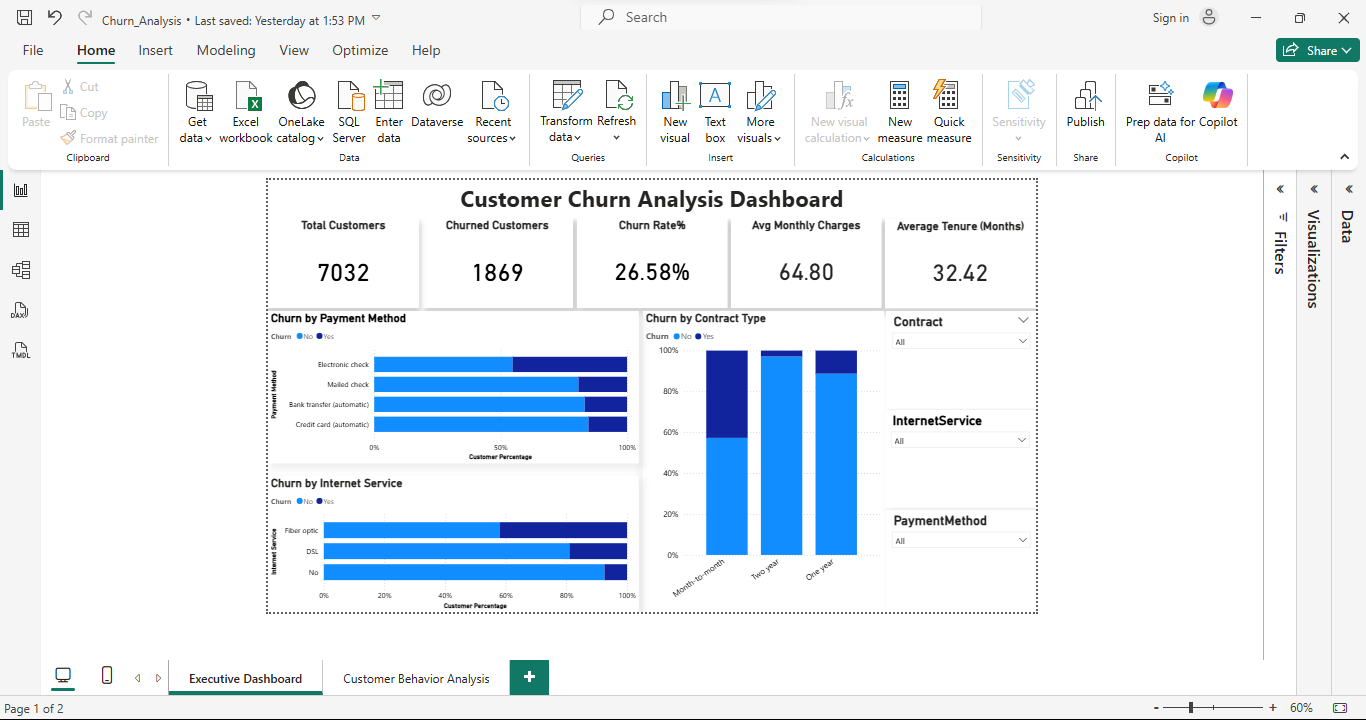

Layout of this report page (visuals, bound fields, positions):
{"tool":"powerbi","page":{"name":"Executive Dashboard","canvas":[1280,720],"ordinal":0},"visuals":[{"type":"card","title":"Total Customers","fields":{"Values":["Count(cleaned_telco_churn.customerID)"]},"box":[0,63.8,251,149.5],"z":0},{"type":"card","title":"Churned Customers","fields":{"Values":["Count(cleaned_telco_churn.customerID)"]},"box":[257.1,63.8,251,149.5],"z":1000},{"type":"card","title":"Churn Rate%","fields":{"Values":["cleaned_telco_churn.Churn Rate"]},"box":[514.3,63.8,251,149.5],"z":2000},{"type":"card","title":"Avg Monthly Charges","fields":{"Values":["Avg(cleaned_telco_churn.MonthlyCharges)"]},"box":[771.4,63.8,251,149.5],"z":3000},{"type":"card","title":"Average Tenure (Months)","fields":{"Values":["Avg(cleaned_telco_churn.tenure)"]},"box":[1027.7,64.2,251,149.4],"z":4000},{"type":"hundredPercentStackedColumnChart","title":"Churn by Contract Type","fields":{"Category":["cleaned_telco_churn.Contract"],"Series":["cleaned_telco_churn.Churn"],"Y":["CountNonNull(cleaned_telco_churn.customerID)"]},"box":[624.4,218.1,401.8,501.9],"z":5000},{"type":"hundredPercentStackedBarChart","title":"Churn by Internet Service","fields":{"Category":["cleaned_telco_churn.InternetService"],"Series":["cleaned_telco_churn.Churn"],"Y":["CountNonNull(cleaned_telco_churn.customerID)"]},"box":[0,492.9,618.4,227.1],"z":6000},{"type":"hundredPercentStackedBarChart","title":"Churn by Payment Method","fields":{"Y":["CountNonNull(cleaned_telco_churn.customerID)"],"Category":["cleaned_telco_churn.PaymentMethod"],"Series":["cleaned_telco_churn.Churn"]},"box":[0,218.1,618.4,253.9],"z":7000},{"type":"slicer","fields":{"Values":["cleaned_telco_churn.Contract"]},"box":[1029.2,218.1,251,163],"z":8000},{"type":"slicer","fields":{"Values":["cleaned_telco_churn.InternetService"]},"box":[1029,383.9,251,162.8],"z":9000},{"type":"slicer","fields":{"Values":["cleaned_telco_churn.PaymentMethod"]},"box":[1029.2,549.7,251,170.3],"z":10000},{"type":"textbox","box":[0,0,1280,63.8],"z":12000}]}

Visuals, with their boxes on the page's 1280x720 design canvas (x1, y1, x2, y2). These are canvas units, not pixel positions in the 1366x720 screenshot, which may show the page scaled, cropped or inside an application window:
"Total Customers" card: <bbox>0, 64, 251, 213</bbox>
"Churned Customers" card: <bbox>257, 64, 508, 213</bbox>
"Churn Rate%" card: <bbox>514, 64, 765, 213</bbox>
"Avg Monthly Charges" card: <bbox>771, 64, 1022, 213</bbox>
"Average Tenure (Months)" card: <bbox>1028, 64, 1279, 214</bbox>
"Churn by Contract Type" hundredPercentStackedColumnChart: <bbox>624, 218, 1026, 720</bbox>
"Churn by Internet Service" hundredPercentStackedBarChart: <bbox>0, 493, 618, 720</bbox>
"Churn by Payment Method" hundredPercentStackedBarChart: <bbox>0, 218, 618, 472</bbox>
slicer - cleaned_telco_churn.Contract: <bbox>1029, 218, 1280, 381</bbox>
slicer - cleaned_telco_churn.InternetService: <bbox>1029, 384, 1280, 547</bbox>
slicer - cleaned_telco_churn.PaymentMethod: <bbox>1029, 550, 1280, 720</bbox>
textbox: <bbox>0, 0, 1280, 64</bbox>
